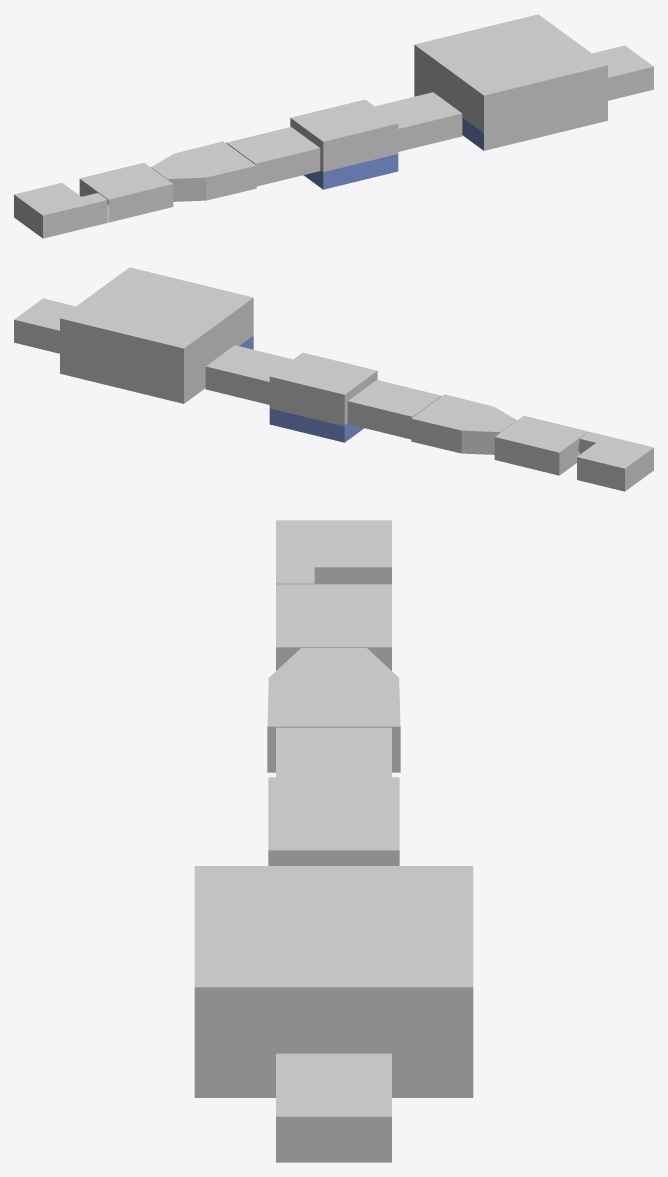
Rendered from odalar3.fbx.
3 views of the same model, one above another, from view 1: azimuth 30°, elevation 25°; view 2: azimuth 150°, elevation 25°; view 3: azimuth 270°, elevation 25° (orthographic). The views are drawn at different scales.
Visible parts, largest first — view 1: Tavanlar, Oda6_duvar, Oda4_duvar, Oda5_duvar, Oda1_duvar, Oda3_duvar, Oda2_duvar, Oda5_Altduvar, Oda7_duvar; view 2: Tavanlar, Oda6_duvar, Oda4_duvar, Oda5_duvar, Oda2_duvar, Oda3_duvar, Oda1_duvar, Oda5_Altduvar, Oda7_duvar; view 3: Tavanlar, Oda6_duvar, Oda7_duvar, Oda5_duvar, Oda1_duvar, Oda3_duvar.
Part boxes in pixels (x1=…): Tavanlar: x1=14, y1=14, x2=653, y2=215; Oda6_duvar: x1=414, y1=45, x2=607, y2=150; Oda4_duvar: x1=226, y1=113, x2=462, y2=186; Oda5_duvar: x1=290, y1=118, x2=398, y2=171; Oda1_duvar: x1=14, y1=194, x2=107, y2=238; Oda3_duvar: x1=151, y1=165, x2=256, y2=201; Oda2_duvar: x1=79, y1=179, x2=173, y2=222; Oda5_Altduvar: x1=303, y1=154, x2=398, y2=189; Oda7_duvar: x1=608, y1=66, x2=653, y2=100; Tavanlar: x1=14, y1=267, x2=653, y2=468; Oda6_duvar: x1=60, y1=298, x2=253, y2=403; Oda4_duvar: x1=205, y1=366, x2=441, y2=439; Oda5_duvar: x1=269, y1=371, x2=377, y2=426; Oda2_duvar: x1=494, y1=432, x2=588, y2=475; Oda3_duvar: x1=411, y1=418, x2=516, y2=454; Oda1_duvar: x1=577, y1=439, x2=653, y2=491; Oda5_Altduvar: x1=269, y1=408, x2=364, y2=442; Oda7_duvar: x1=14, y1=319, x2=59, y2=353; Tavanlar: x1=194, y1=520, x2=473, y2=1116; Oda6_duvar: x1=194, y1=987, x2=473, y2=1097; Oda7_duvar: x1=276, y1=1116, x2=391, y2=1162; Oda5_duvar: x1=268, y1=850, x2=399, y2=865; Oda1_duvar: x1=276, y1=567, x2=391, y2=584; Oda3_duvar: x1=267, y1=726, x2=400, y2=772.
Bounding box in the file's own units: 14157 × 1615 × 2799.
